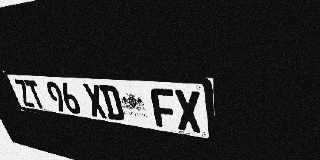6: (57, 82, 82, 115)
9: (44, 81, 68, 113)
D: (99, 85, 125, 121)
F: (150, 88, 178, 129)
T: (24, 80, 47, 109)
X: (173, 89, 202, 133), (82, 84, 108, 119)
Z: (13, 79, 36, 108)
